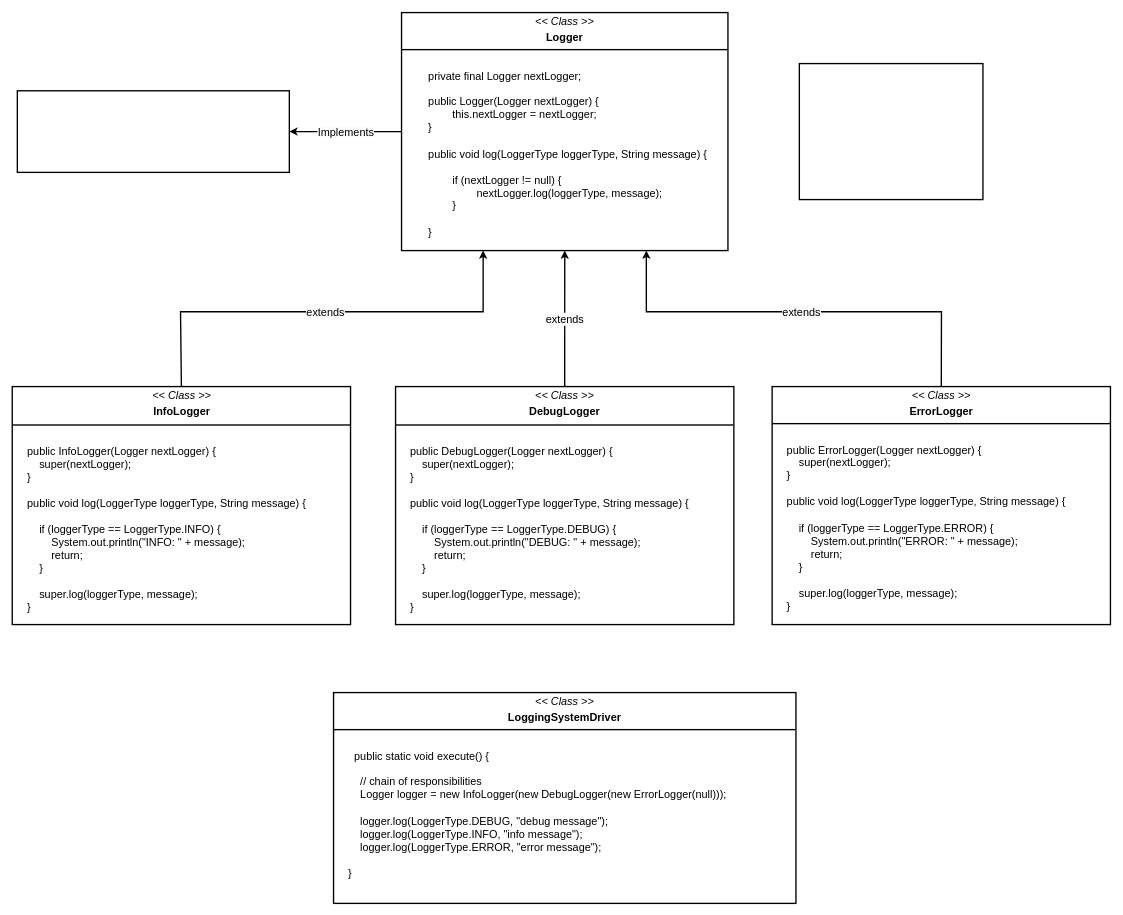
Image size: 1123x915. Some labels were removed from this diagram. Here are the shapes that lost their labels. From the top down, the centre of each, then its label:
At (153,131): "<<Interface>> LoggerInterface void log(LoggerType loggerType, String message);".
At (890,131): "<< enum >> LoggerType public enum LoggerType { INFO, DEBUG, ERROR }".
